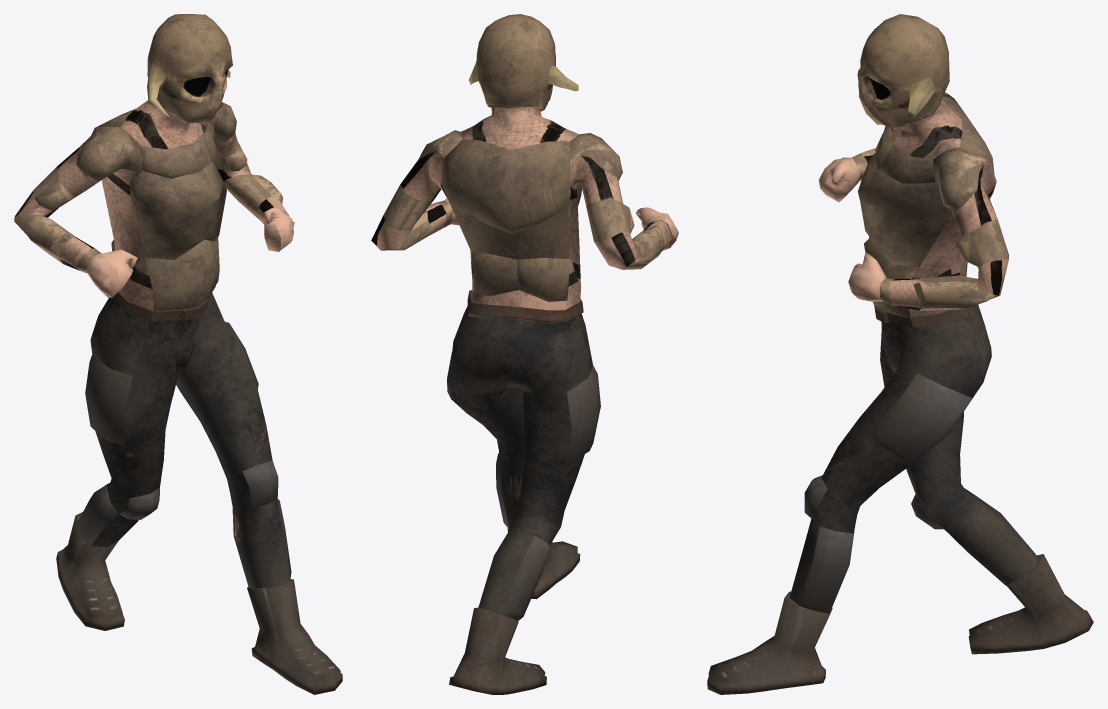
Rendered from Anim_ataque_d1_npc1.0019.obj.
3 views of the same model, side by side, from view 1: azimuth 30°, elevation 25°; view 2: azimuth 150°, elevation 25°; view 3: azimuth 270°, elevation 25° (orthographic). The views are drawn at different scales.
Parts seen in each view (by area): view 1: NPC2; view 2: NPC2; view 3: NPC2.
Part boxes in pixels (x1,y1,x2,y2): NPC2: [14, 14, 342, 694]; NPC2: [371, 14, 678, 694]; NPC2: [707, 14, 1093, 694].
Size of the model in its own units: 3.94 by 9.17 by 4.92.
